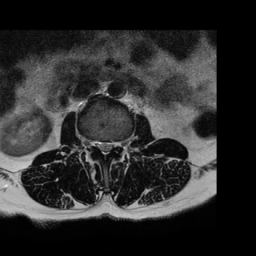CCS_stenosis: (102, 136, 108, 162)
LFS_stenosis: (114, 136, 121, 153)
LLS_stenosis: (108, 136, 114, 157)
RFS_normal: (88, 135, 97, 151)
RLS_normal: (96, 136, 102, 156)
